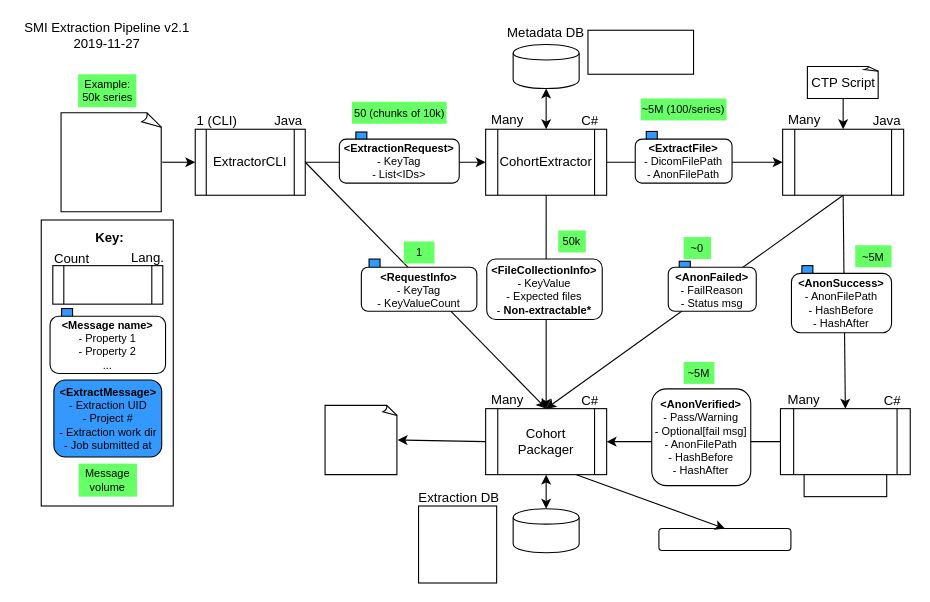
The diagram is 930 pixels wide and 602 high, and some of its shapes have lost their labels. Each missing label, with the centre of its shape:
Anonymisation Validator: (x=844, y=441)
Collections: - Ingest - InProgress - ForReview - Completed: (x=457, y=544)
CTP Anonymiser: (x=843, y=161)
Extraction IDs One of: - Study + Mod. - Series - Image: (x=111, y=162)
Extraction report: (x=361, y=439)
Image supertable: - DicomFilePath - IsExtractable: (x=640, y=51)
IsIdentifiable: (x=845, y=485)
Mattermost Notifications: (x=724, y=539)
MongoDB: (x=545, y=530)
MySQL: (x=545, y=66)
Serivce Name: (x=107, y=284)
